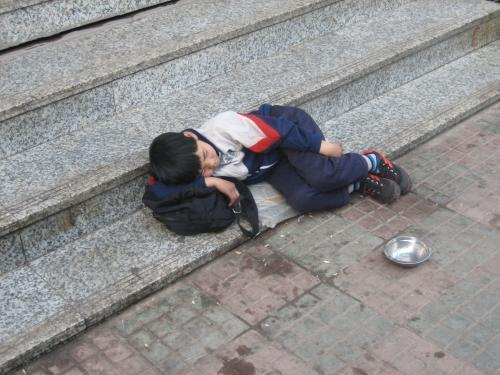Fall-Detected: (133, 85, 415, 241)
